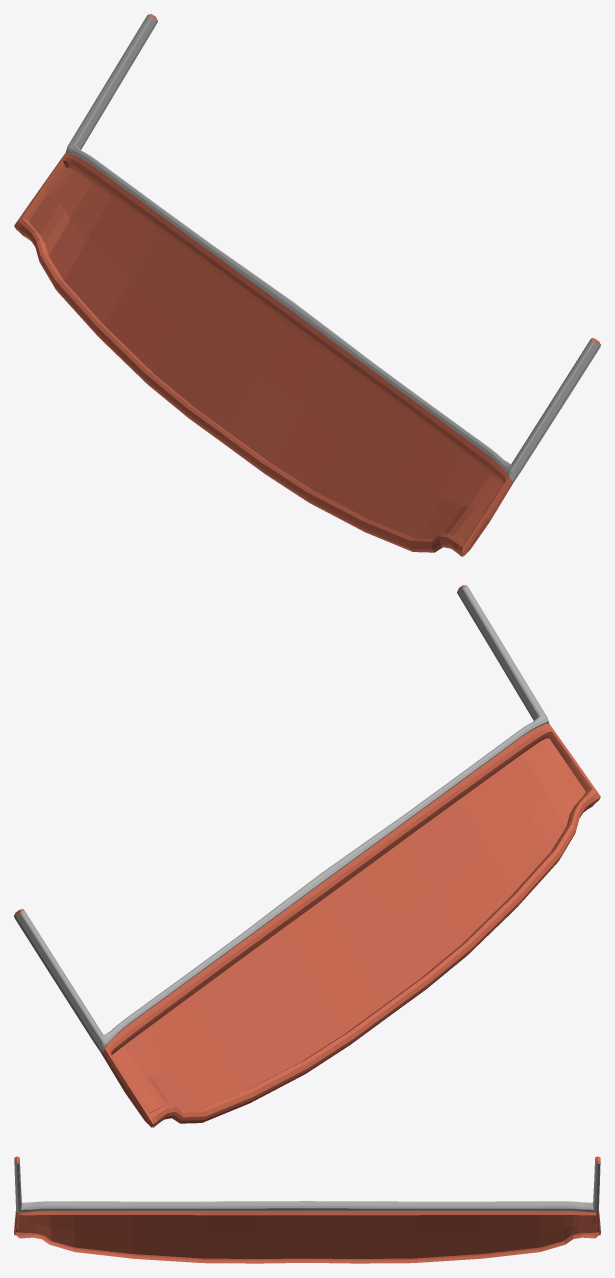
The model's file is Car dashboard.fbx.
3 renders of one model, top to bottom at view 1: azimuth 30°, elevation 25°; view 2: azimuth 150°, elevation 25°; view 3: azimuth 270°, elevation 25°, orthographic. The views are drawn at different scales.
Visible parts, largest first — view 1: Car_Dashboard; view 2: Car_Dashboard; view 3: Car_Dashboard.
Boxes of the visible parts, box(x1,y1,x2,y2) form: Car_Dashboard: box(14, 14, 600, 556); Car_Dashboard: box(14, 585, 600, 1127); Car_Dashboard: box(14, 1156, 600, 1263).
Size of the model in its own units: 65.59 by 93.56 by 324.
